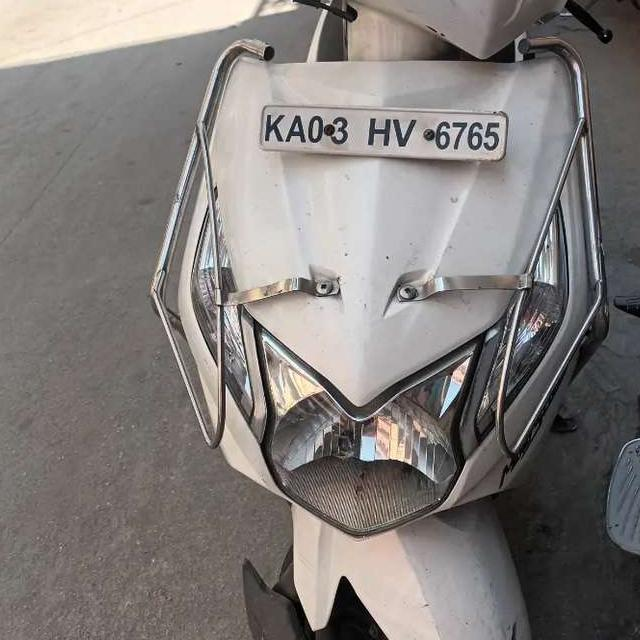Indian_Number_Plate: (261, 106, 508, 159)
